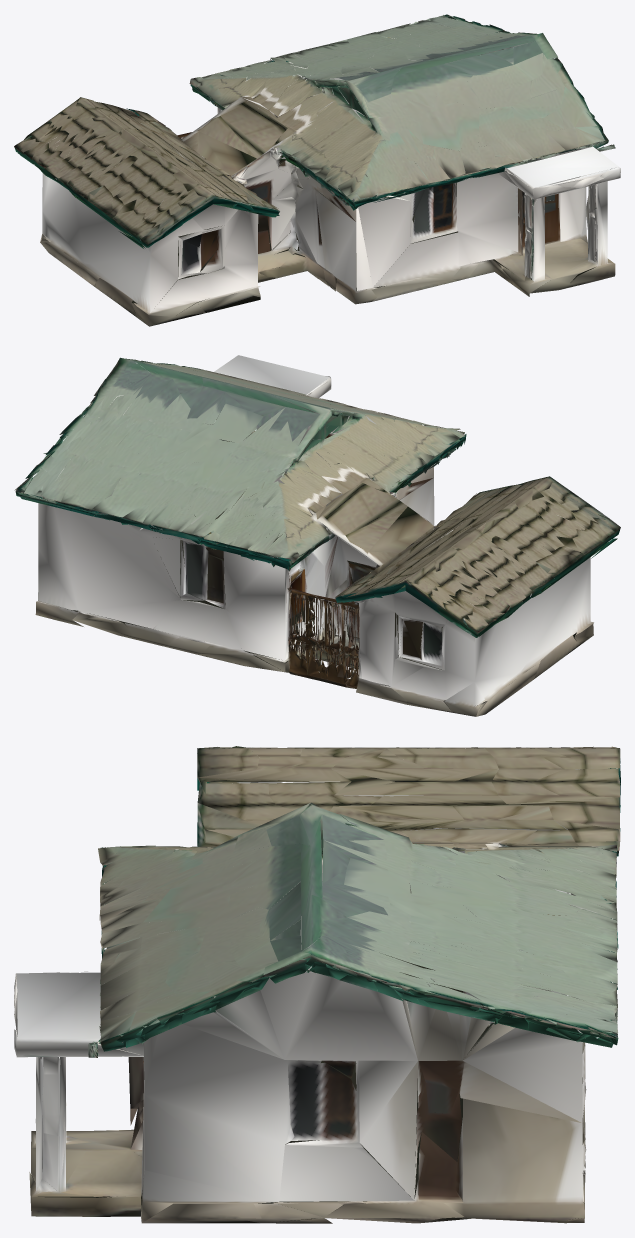
File: Worlda660f918d4.glb
3 views of the same model, one above another, from view 1: azimuth 30°, elevation 25°; view 2: azimuth 150°, elevation 25°; view 3: azimuth 270°, elevation 25° (orthographic). The views are drawn at different scales.
Visible parts, largest first — view 1: Worlda660f918d4; view 2: Worlda660f918d4; view 3: Worlda660f918d4.
Part boxes in pixels (x1,y1,x2,y2): Worlda660f918d4: (14,14,620,326); Worlda660f918d4: (14,355,620,716); Worlda660f918d4: (14,746,620,1223).
Size of the model in its own units: 7 by 2.69 by 5.36.
Materials: 1 (1 with a texture image).
